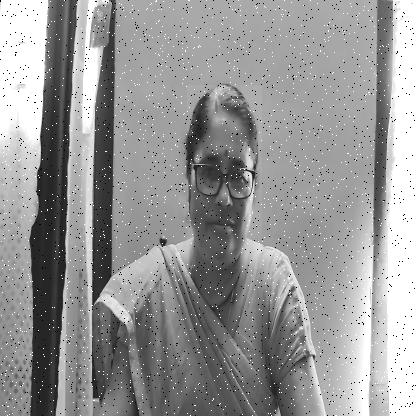Normal: (187, 85, 262, 269)
